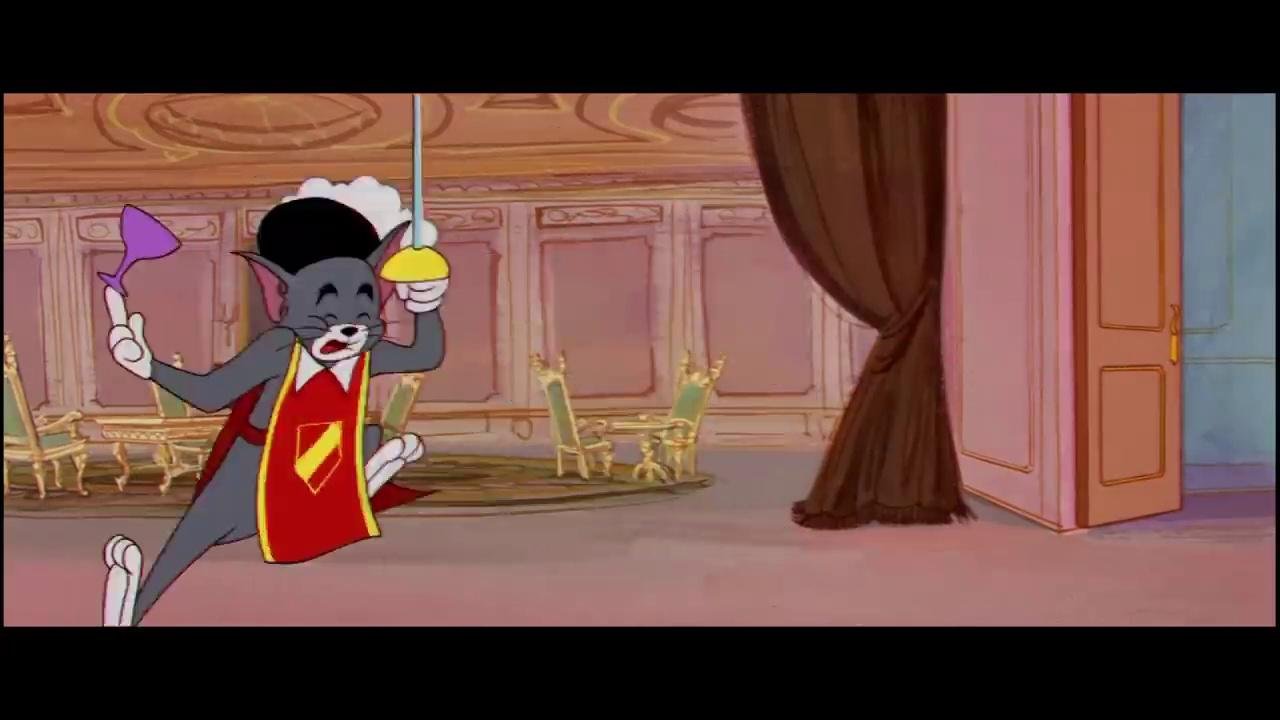Tom: (101, 218, 448, 627)
